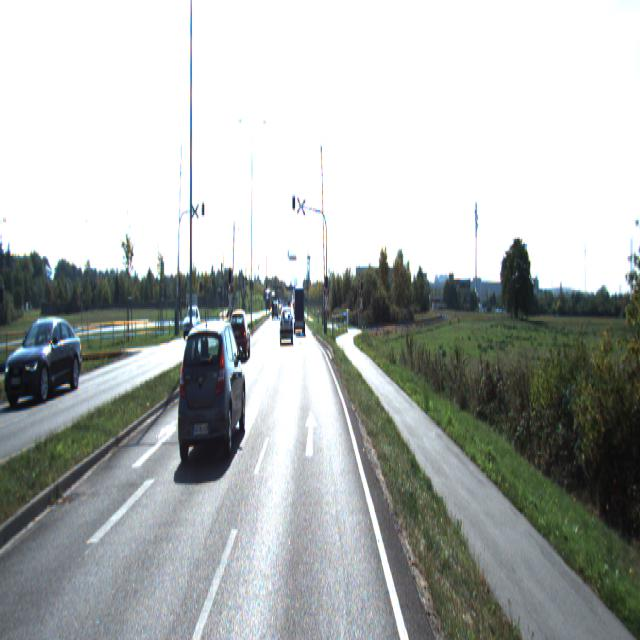Car: (177, 315, 247, 477), (4, 319, 82, 410), (228, 316, 251, 368), (182, 306, 201, 341), (294, 291, 305, 339), (280, 312, 293, 346)
